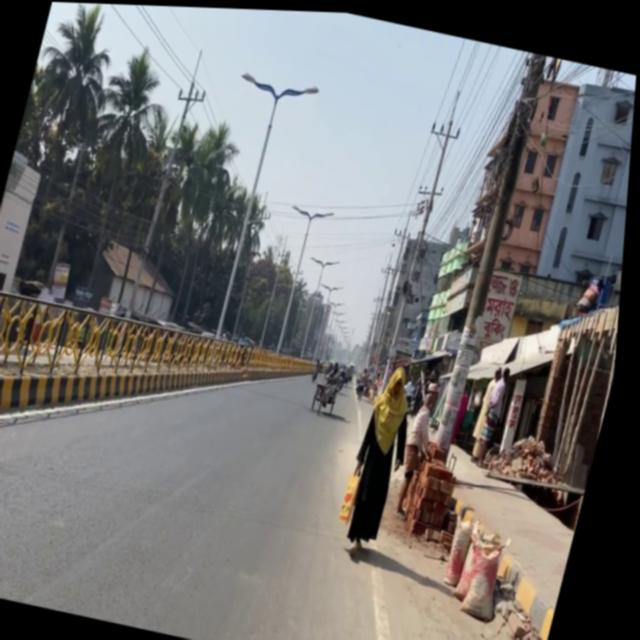Construction-barrier: (0, 356, 132, 443)
Garbage: (400, 439, 482, 546)
Garbage-bin: (341, 357, 432, 554), (394, 384, 450, 515), (577, 270, 607, 312)
Light-pole: (434, 45, 551, 453)
Pole: (0, 260, 248, 483)
Pothole: (364, 401, 603, 640)
